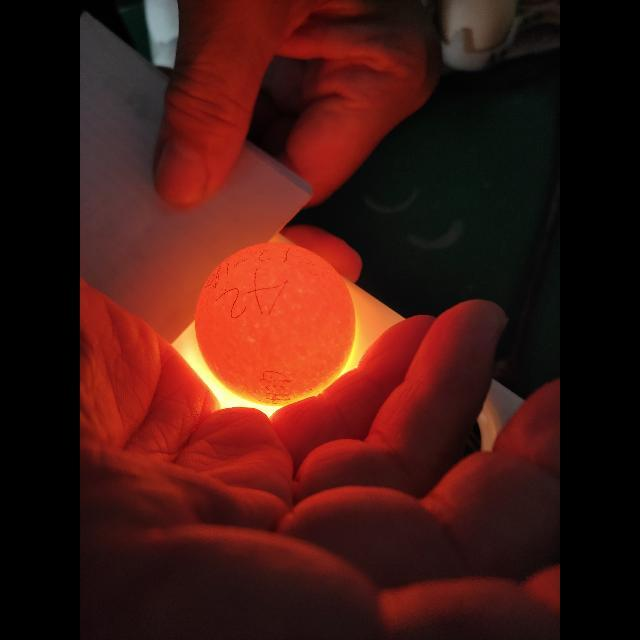Infertile: (185, 242, 358, 406)
